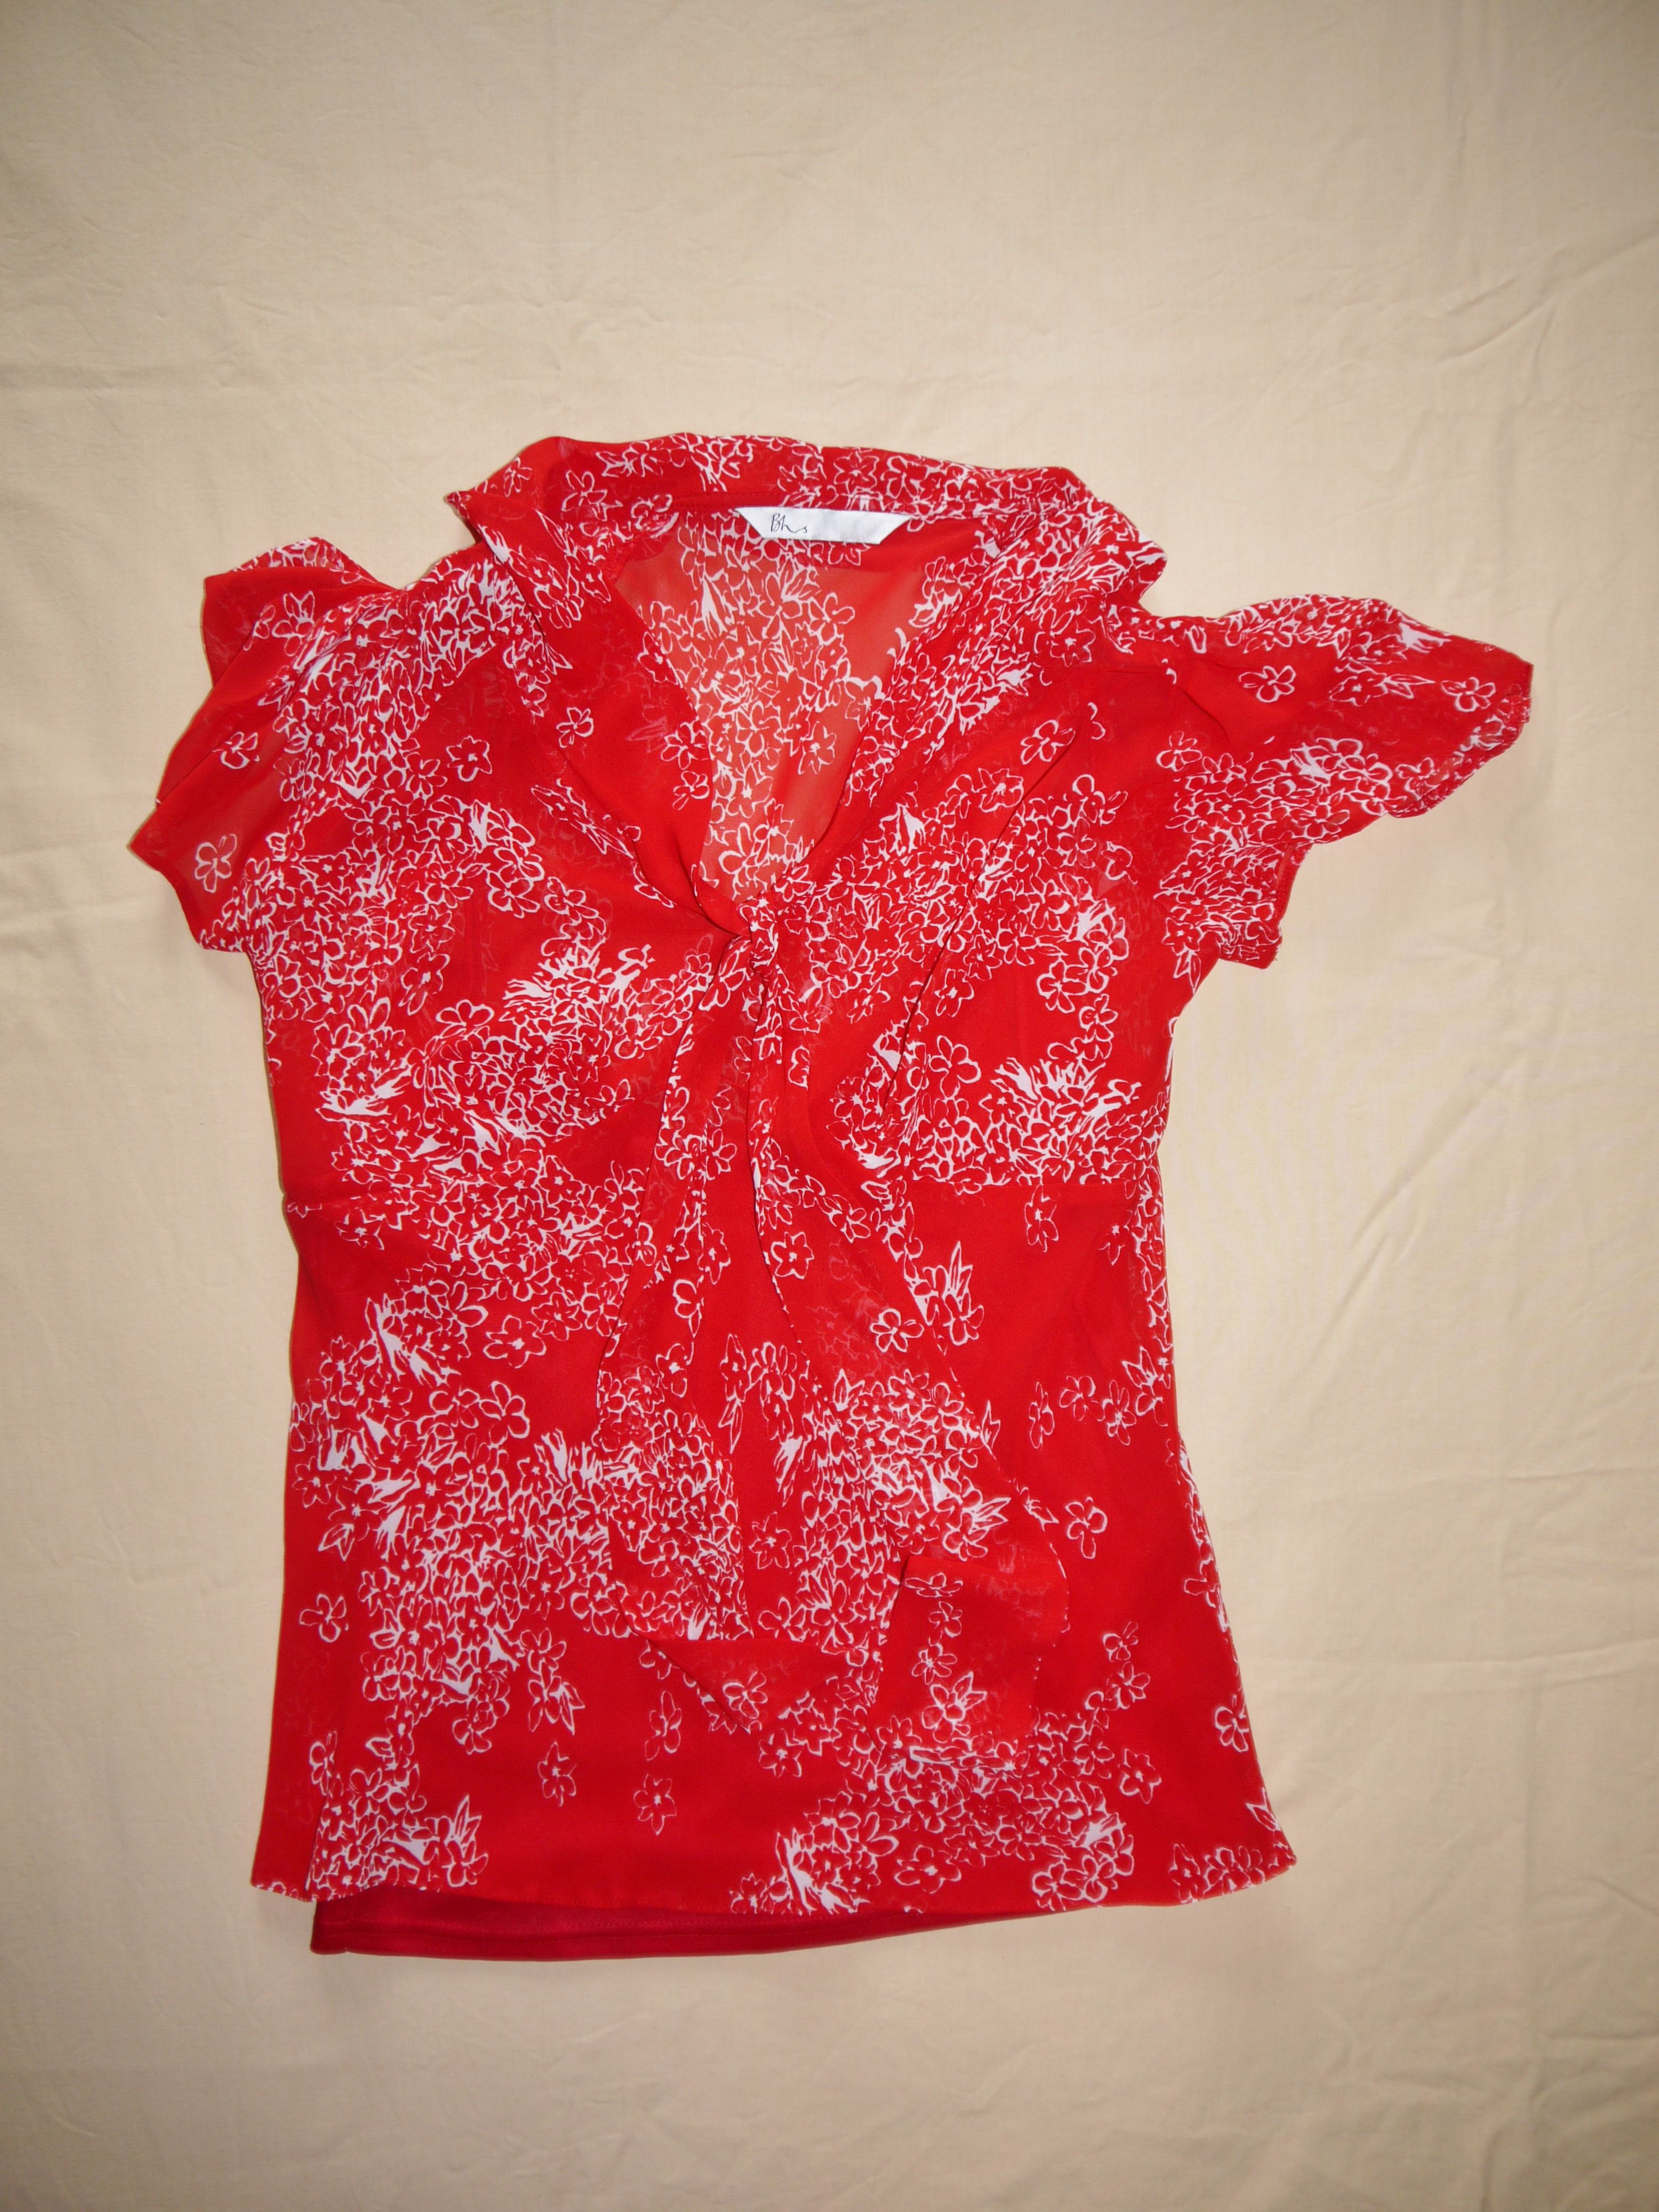clothes: (141, 413, 1591, 1980)
